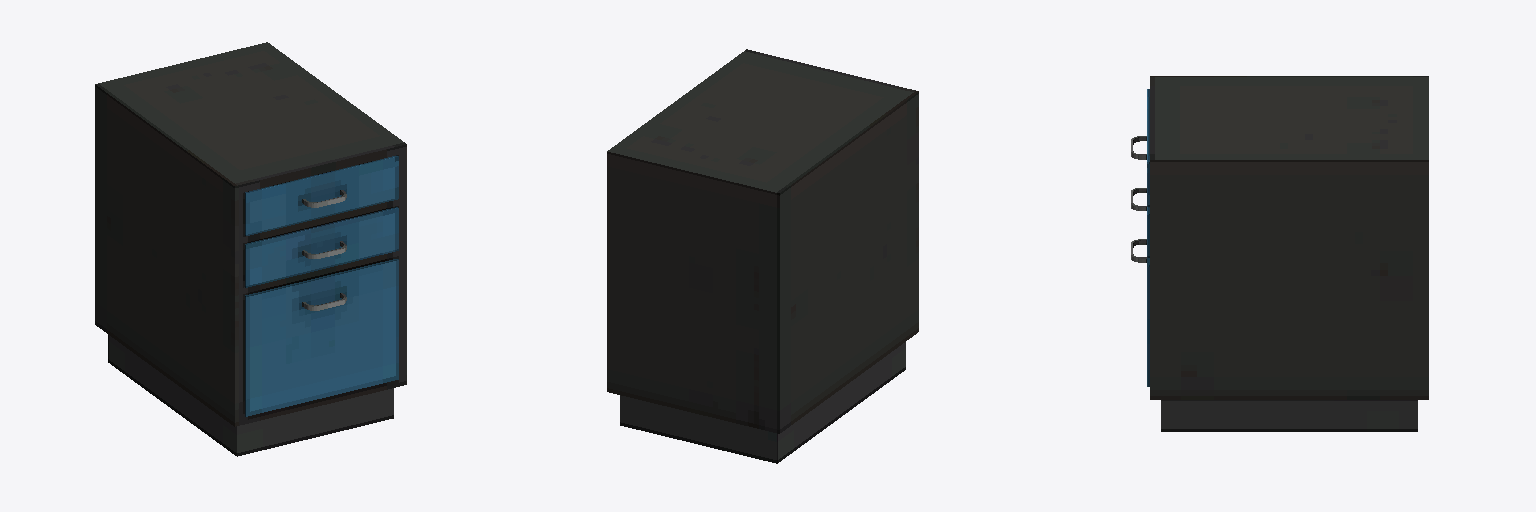
3 renders of one model, left to right at view 1: azimuth 30°, elevation 25°; view 2: azimuth 150°, elevation 25°; view 3: azimuth 270°, elevation 25°, orthographic.
Visible parts, largest first — view 1: g0; view 2: g0; view 3: g0.
Boxes of the visible parts, x1,y1,x2,y2 form: g0: [95, 42, 406, 456]; g0: [607, 49, 918, 463]; g0: [1131, 76, 1428, 431].
Size of the model in its own units: 0.4533 by 0.6937 by 0.6795.
1 materials, 1 textured.